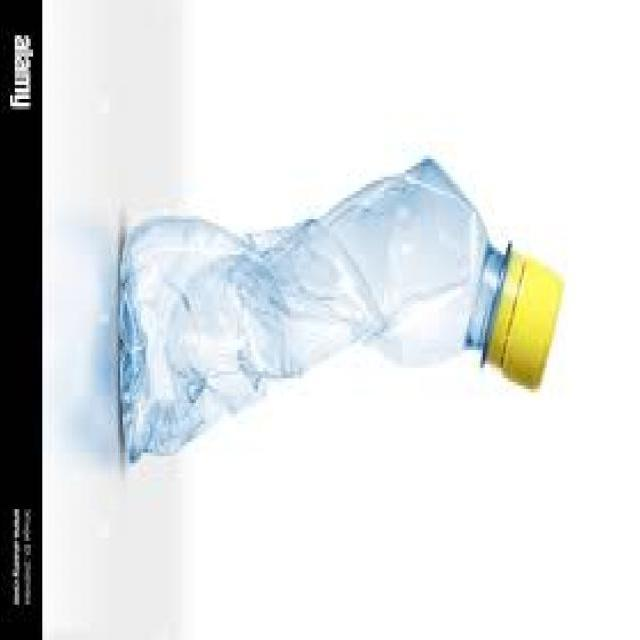寶特瓶: (101, 137, 581, 488)
